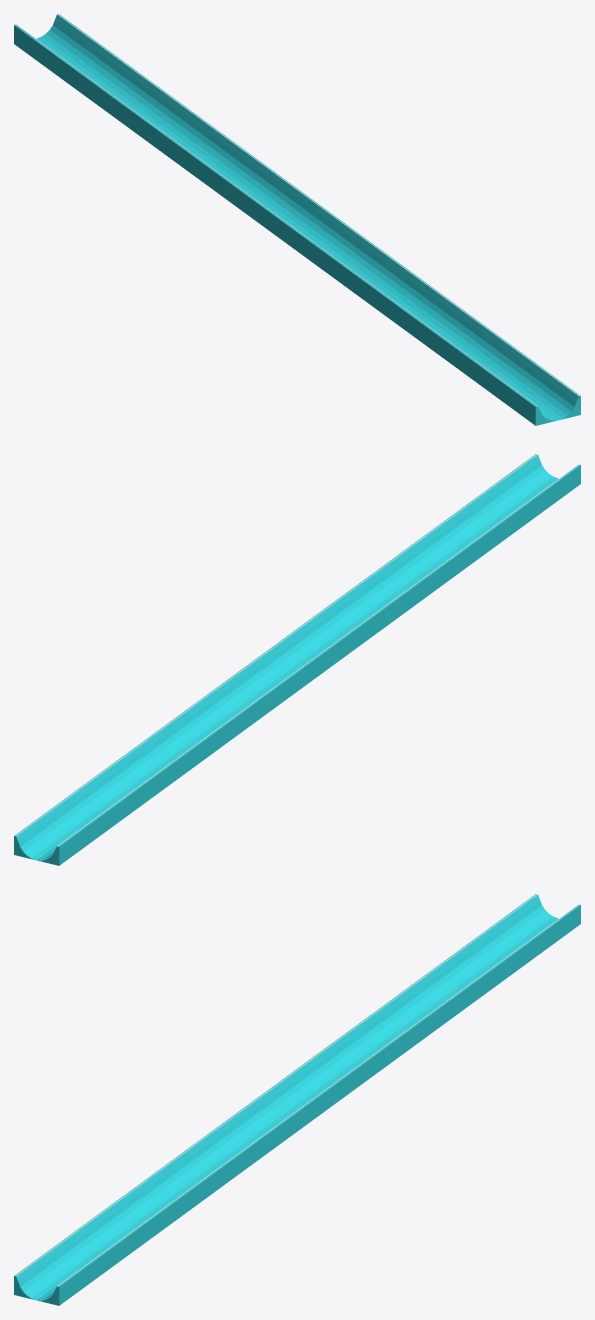
Rendered from HalfPipe.fbx.
3 views of the same model, one above another, from view 1: azimuth 30°, elevation 25°; view 2: azimuth 150°, elevation 25°; view 3: azimuth 330°, elevation 25° (orthographic).
Parts seen in each view (by area): view 1: HelfPipe; view 2: HelfPipe; view 3: HelfPipe.
Part boxes in pixels (x1,y1,x2,y2): HelfPipe: [14, 14, 580, 425]; HelfPipe: [14, 454, 580, 865]; HelfPipe: [14, 894, 580, 1305].
Size of the model in its own units: 250 by 102 by 5000.
